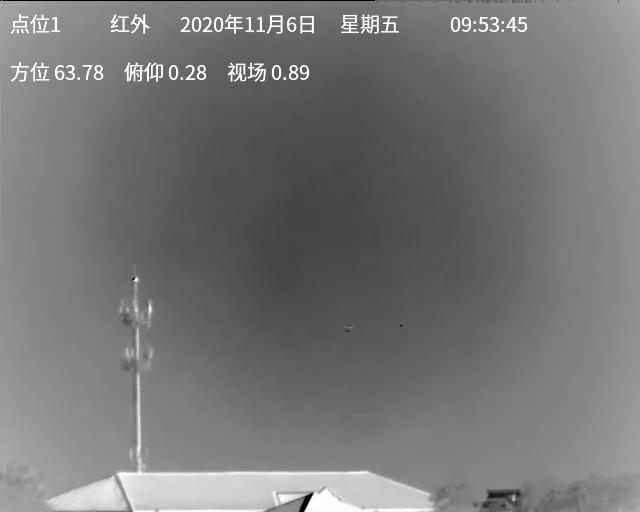uav: (343, 325, 355, 334)
